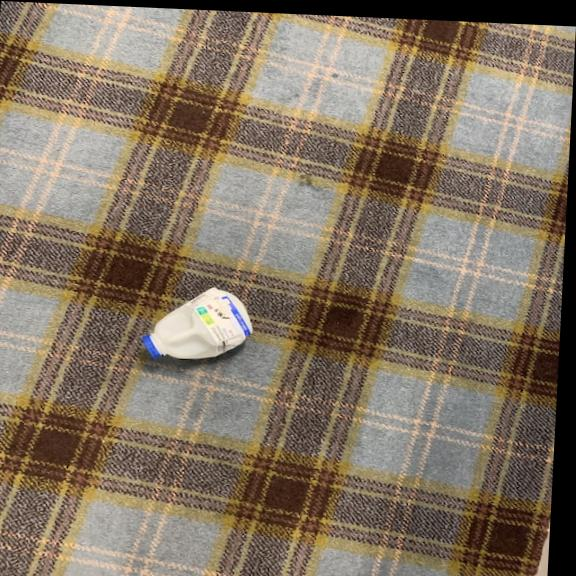Plastik: (131, 278, 261, 368)
